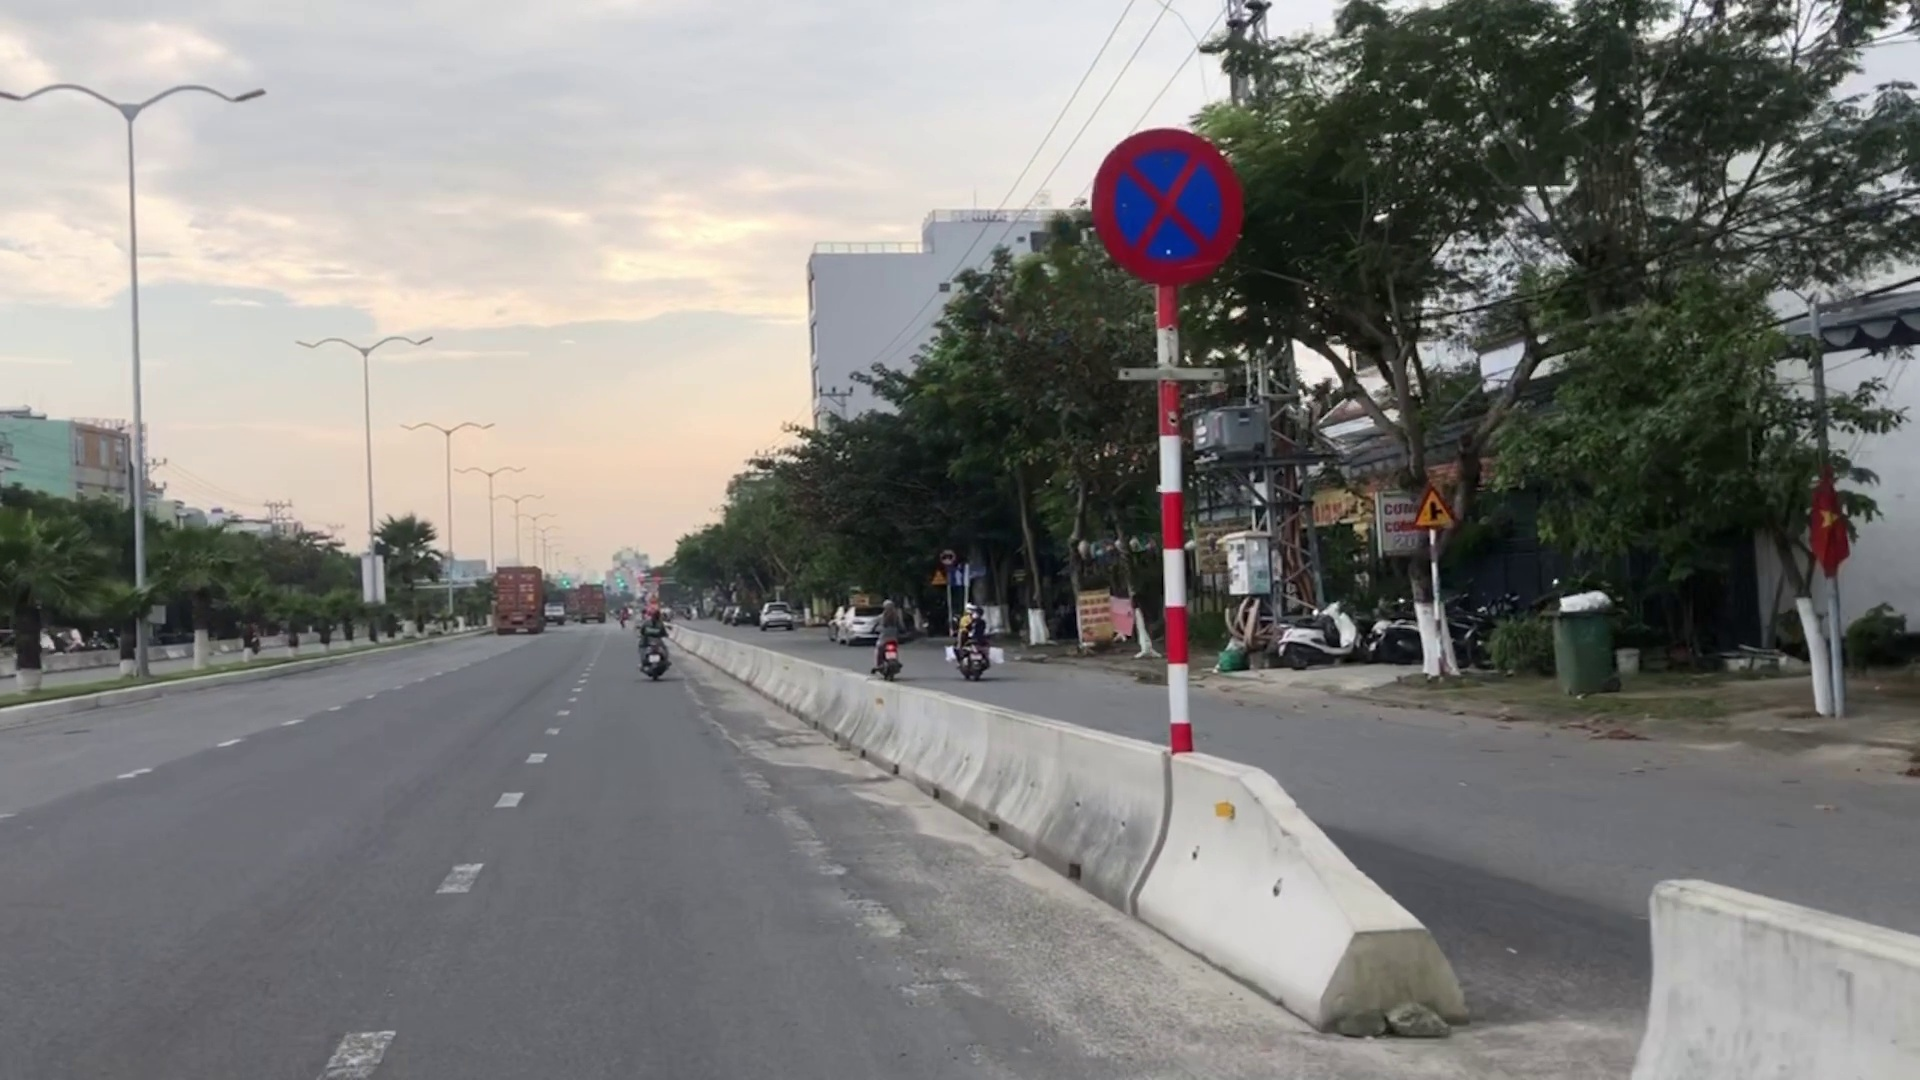Bien khac: (1095, 124, 1242, 281)
Giao nhau voi duong khong uu tien: (1410, 487, 1457, 527)
